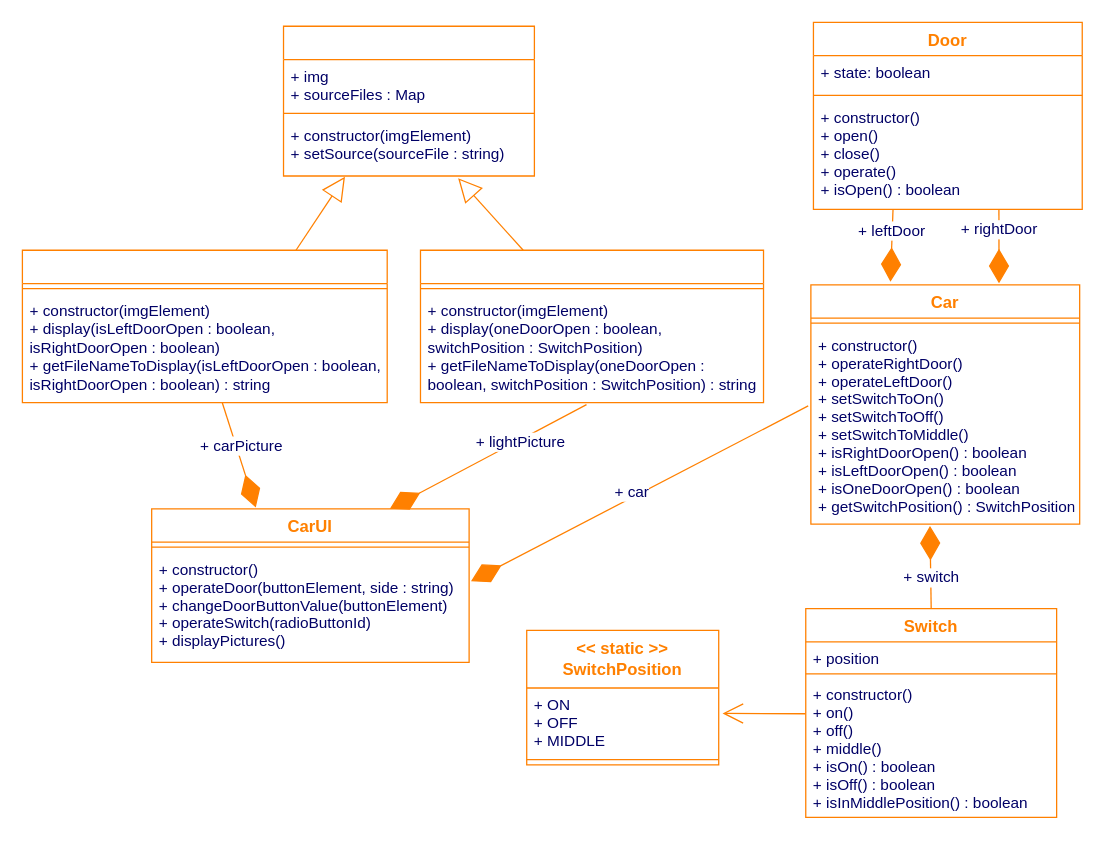
This 1105x844 diagram has some shape labels left out. The box of each missing label's shape, as (x1, y1, x2, y2) in pixels:
CarPicture: (21, 249, 387, 403)
LightPicture: (419, 249, 764, 403)
Picture: (282, 25, 534, 176)
